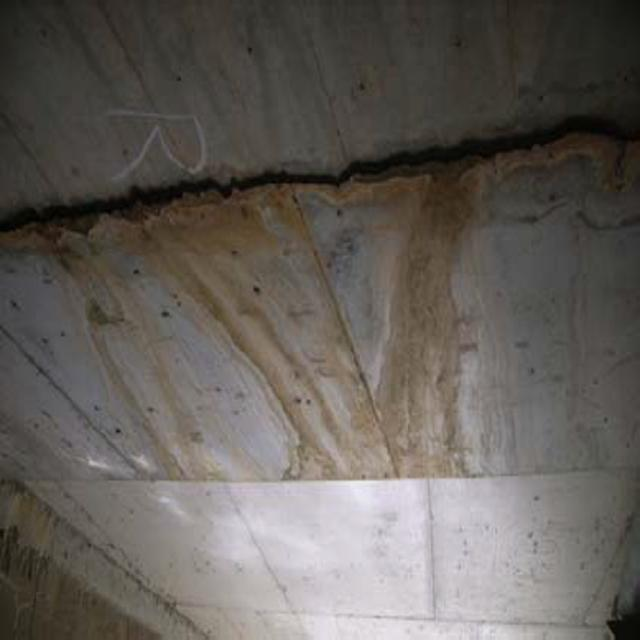leakage: (41, 112, 620, 477)
